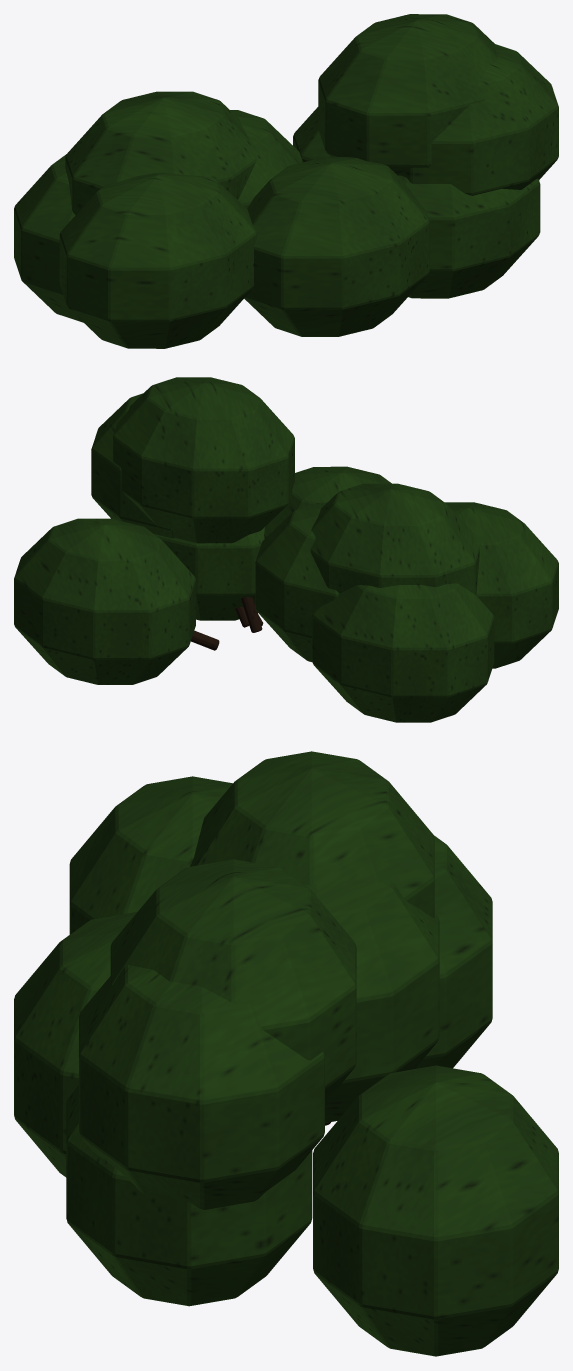
Rendered from PROP-B7292E77C7F9_lod1.glb.
3 renders of one model, top to bottom at view 1: azimuth 30°, elevation 25°; view 2: azimuth 150°, elevation 25°; view 3: azimuth 270°, elevation 25°, orthographic. The views are drawn at different scales.
Visible parts, largest first — view 1: foliage.006; view 2: foliage.006, plant_stem.006; view 3: foliage.006.
Boxes of the visible parts, box(x1,y1,x2,y2) form: foliage.006: box(14, 14, 558, 348); foliage.006: box(14, 377, 558, 722); plant_stem.006: box(191, 596, 263, 650); foliage.006: box(14, 751, 558, 1356).
Size of the model in its own units: 1.55 by 0.8421 by 0.9623.
Materials: 2 (2 with a texture image).
